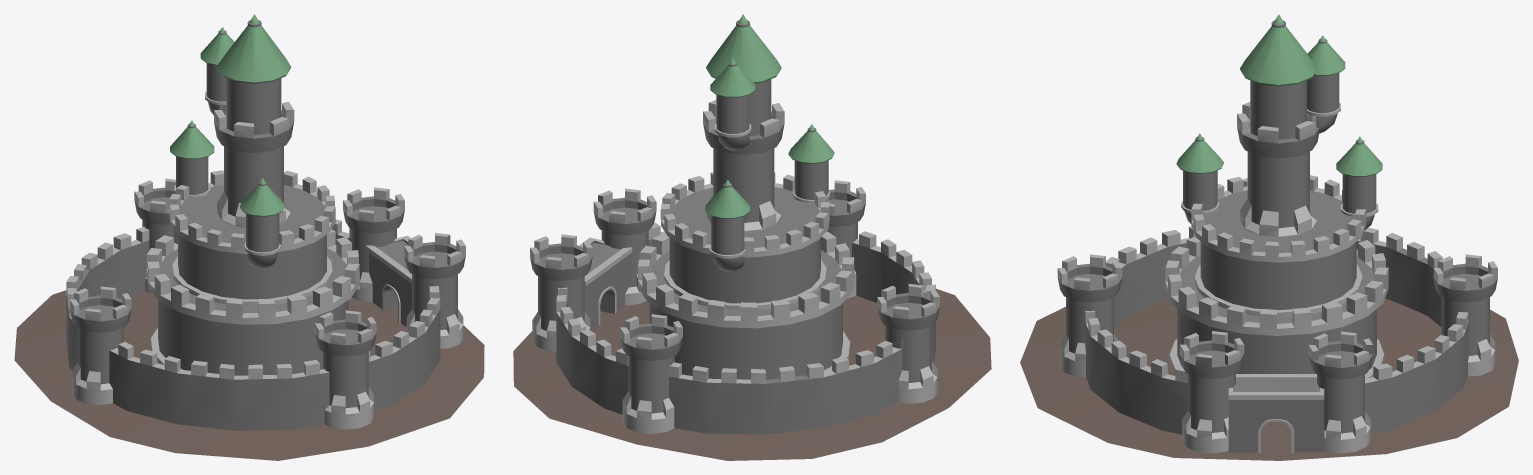
File: Castle.glb
The picture shows the model from 3 angles, left to right: view 1: azimuth 30°, elevation 25°; view 2: azimuth 150°, elevation 25°; view 3: azimuth 270°, elevation 25°; orthographic projection. The views are drawn at different scales.
Parts seen in each view (by area): view 1: SM_Fortress:SM_Fortress; view 2: SM_Fortress:SM_Fortress; view 3: SM_Fortress:SM_Fortress.
Part boxes in pixels (x1=…): SM_Fortress:SM_Fortress: x1=14, y1=14, x2=484, y2=460; SM_Fortress:SM_Fortress: x1=513, y1=14, x2=991, y2=460; SM_Fortress:SM_Fortress: x1=1020, y1=14, x2=1518, y2=460.
Size of the model in its own units: 122 by 101 by 129.
